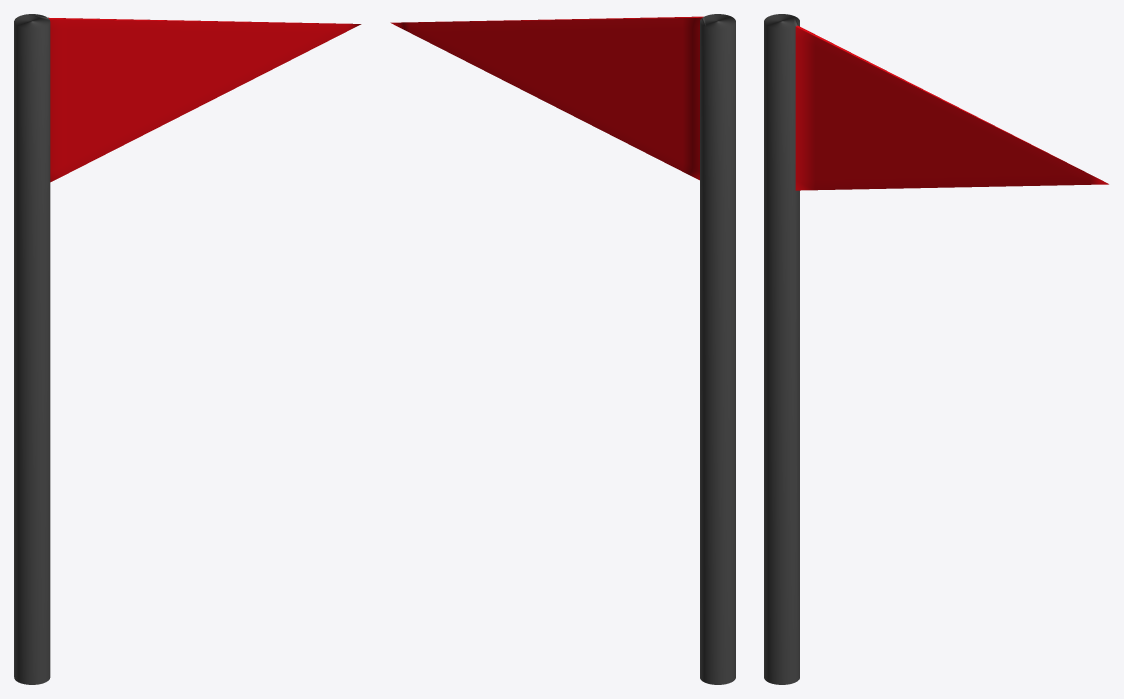
File: Flag1(T).fbx
3 renders of one model, left to right at view 1: azimuth 30°, elevation 25°; view 2: azimuth 150°, elevation 25°; view 3: azimuth 330°, elevation 25°, orthographic.
Visible parts, largest first — view 1: Flag1; view 2: Flag1; view 3: Flag1.
Part boxes in pixels (bbox=[...]): Flag1: bbox=[14, 14, 361, 684]; Flag1: bbox=[390, 14, 735, 684]; Flag1: bbox=[764, 14, 1108, 684].
Bounding box in the file's own units: 110 × 200 × 10.
